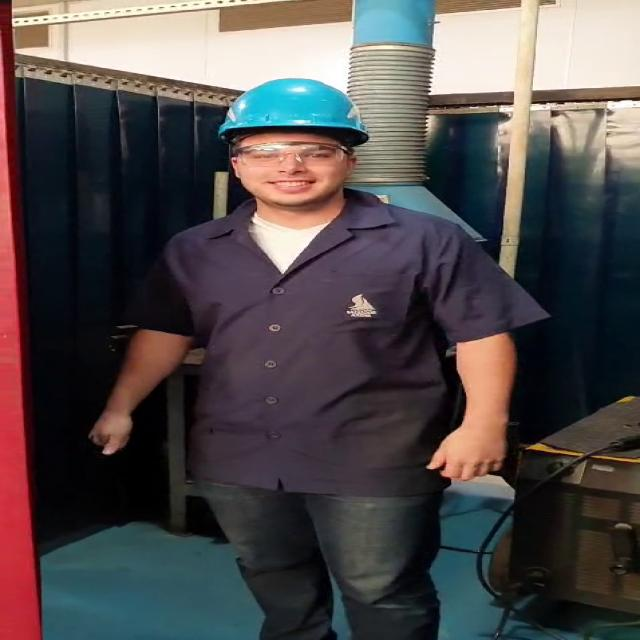oculos-epi: (231, 143, 356, 167)
